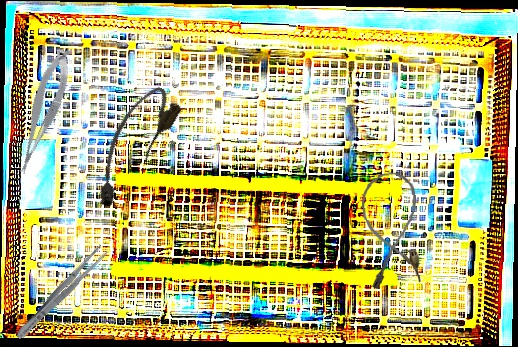Cannula: (77, 79, 187, 214), (359, 170, 424, 290)
Dressing Forceps: (12, 242, 110, 344)
Micro Scissor: (2, 45, 83, 177)
